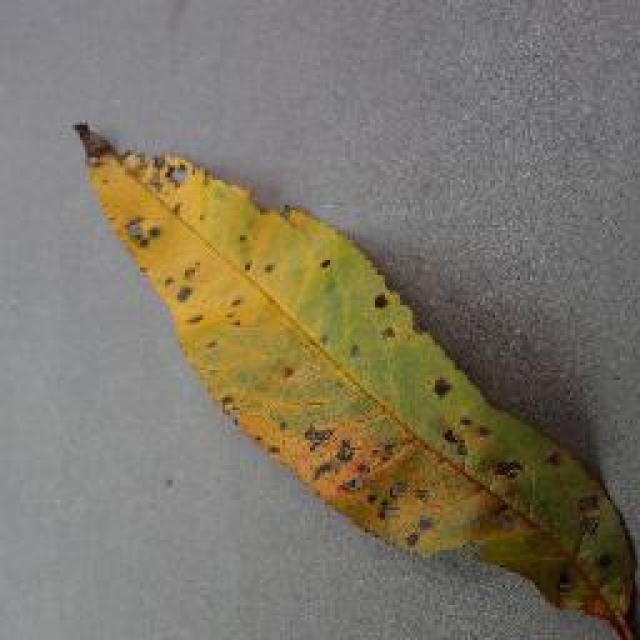Peach_Bacterial_Spot: (121, 147, 542, 530)
